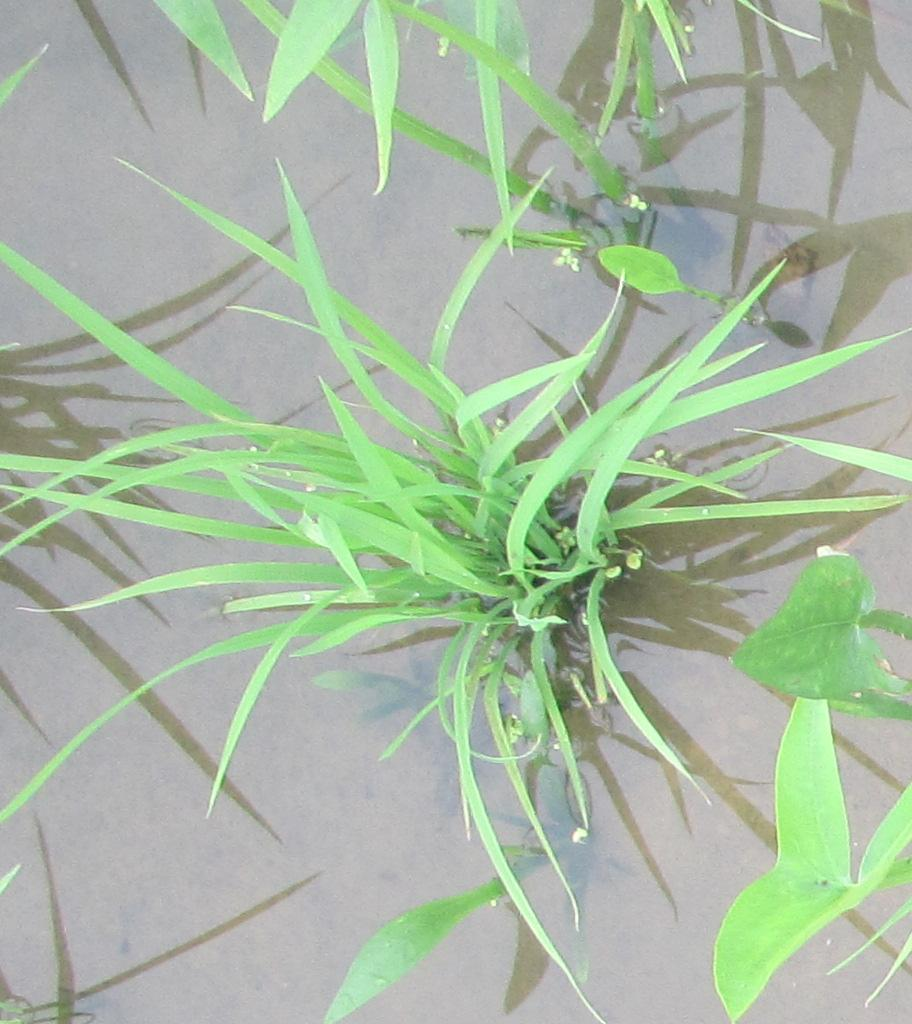Weed: (730, 538, 896, 988), (569, 224, 686, 313)
